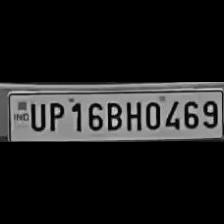0: (142, 97, 160, 130)
1: (66, 99, 83, 133)
4: (161, 97, 179, 131)
6: (84, 99, 103, 133), (180, 97, 198, 131)
9: (199, 96, 219, 130)
B: (104, 98, 122, 132)
H: (122, 98, 142, 132)
P: (46, 99, 66, 133)
U: (27, 100, 46, 132)
